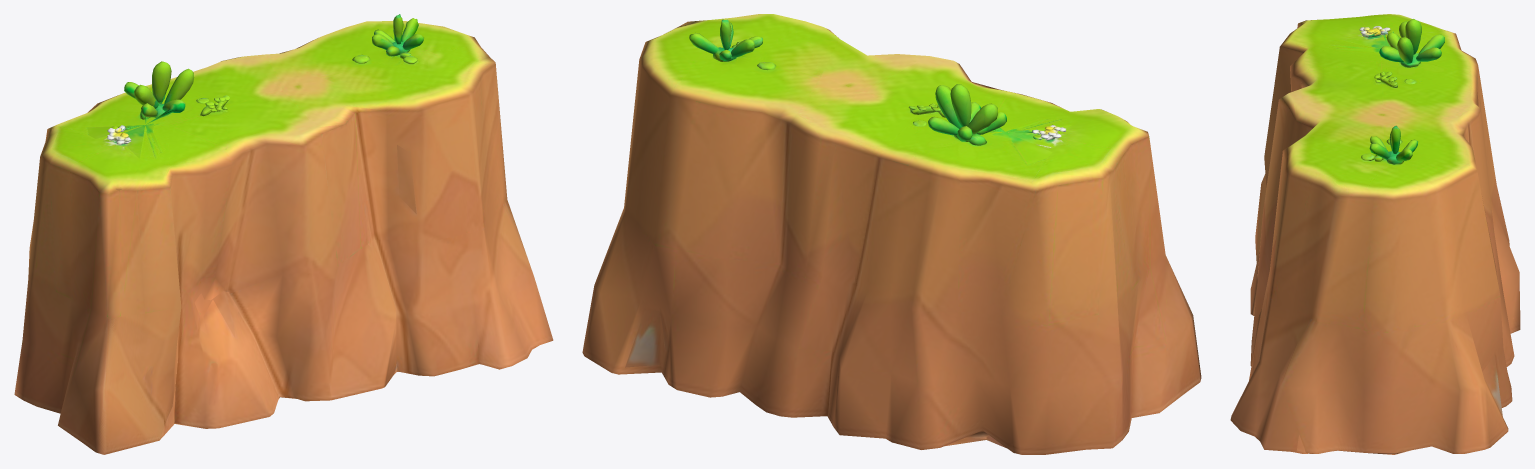
The model's file is r2c1_straight_cliff.glb.
3 renders of one model, left to right at view 1: azimuth 30°, elevation 25°; view 2: azimuth 150°, elevation 25°; view 3: azimuth 270°, elevation 25°, orthographic. The views are drawn at different scales.
Size of the model in its own units: 1 by 0.6133 by 0.5625.
1 material, 1 textured.
